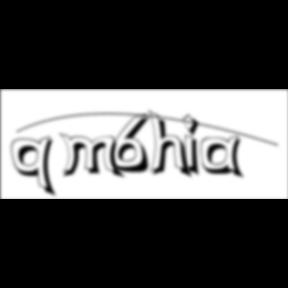6: (112, 112, 156, 176)
a: (201, 135, 249, 182)
h: (148, 108, 196, 182)
i: (183, 112, 207, 180)
m: (60, 132, 128, 181)
q: (12, 135, 60, 200)
